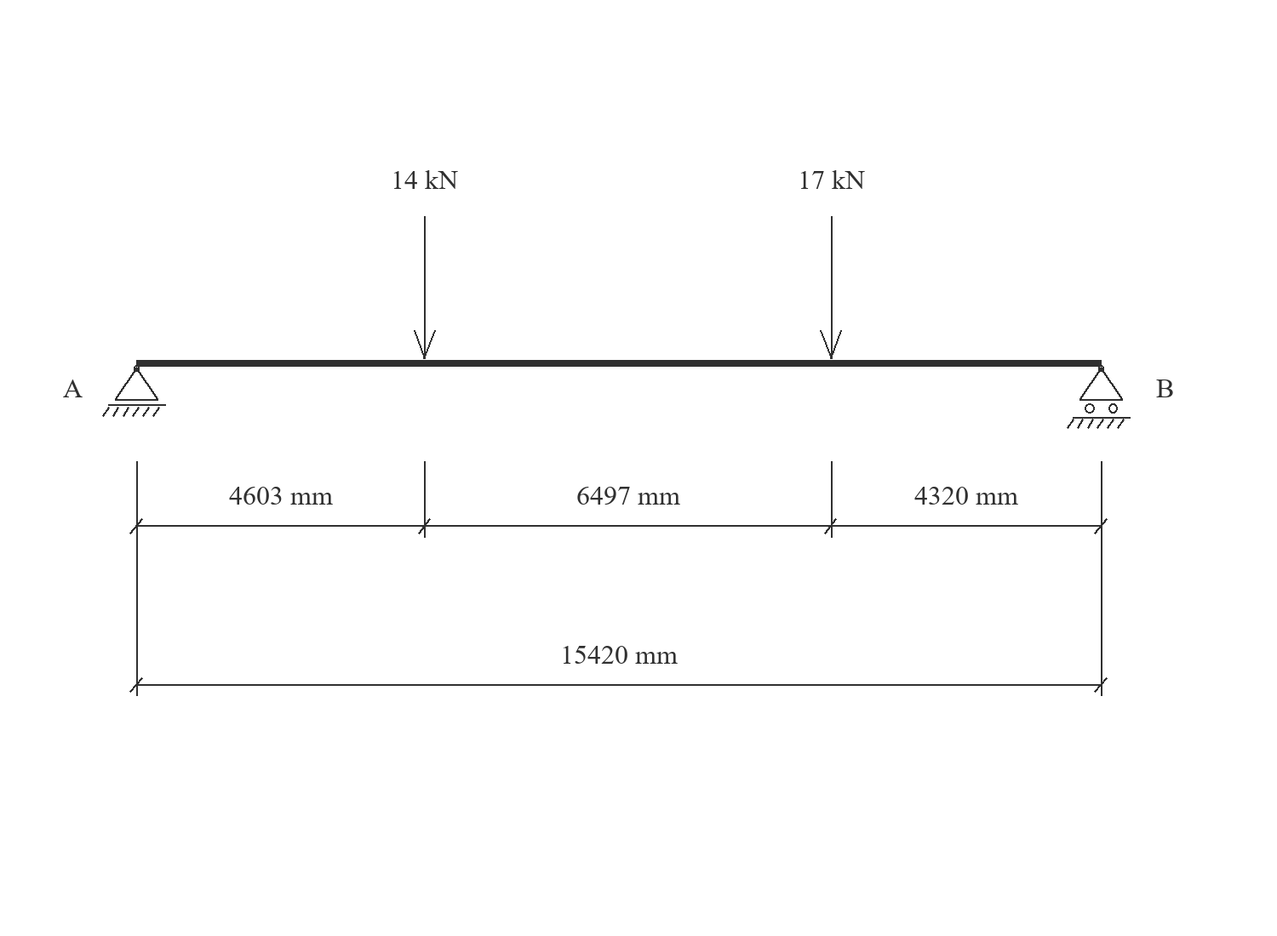pin_support: (102, 365, 166, 417)
point_load: (414, 216, 436, 359), (820, 216, 842, 359)
roller_support: (1067, 365, 1131, 429)
